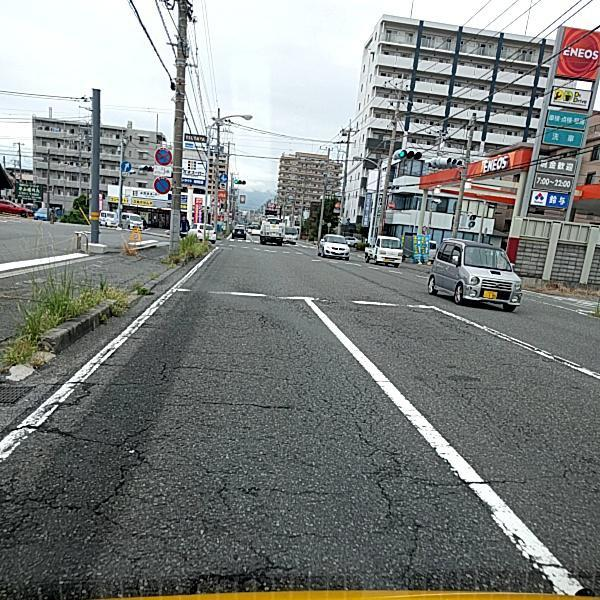D20: (20, 349, 512, 599)
D44: (0, 262, 206, 457)
